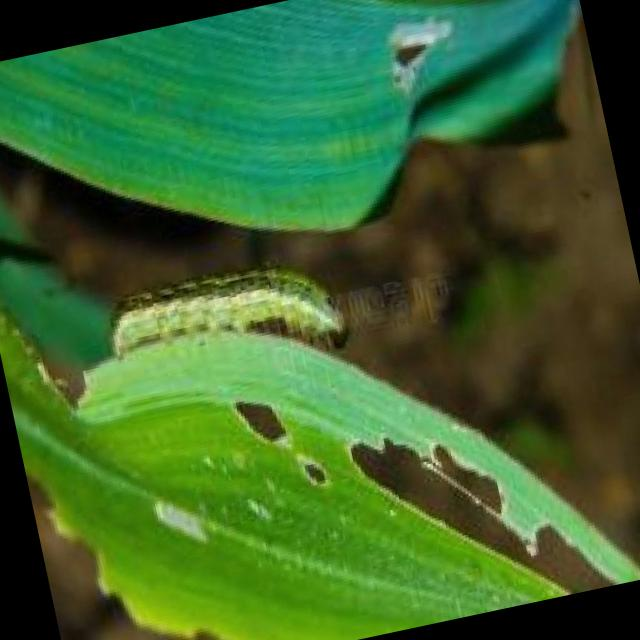pest: (99, 254, 360, 394)
